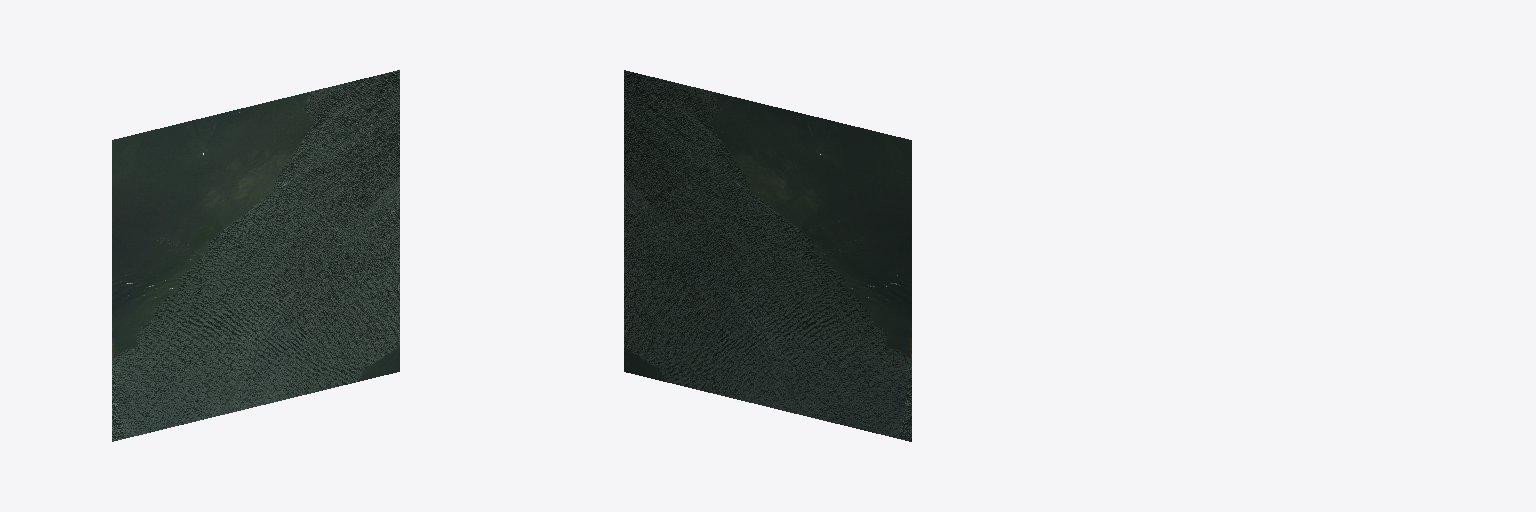
3 views of the same model, side by side, from view 1: azimuth 30°, elevation 25°; view 2: azimuth 150°, elevation 25°; view 3: azimuth 270°, elevation 25° (orthographic).
Size of the model in its own units: 252 by 252 by 0.3767.
2 materials, 1 textured.